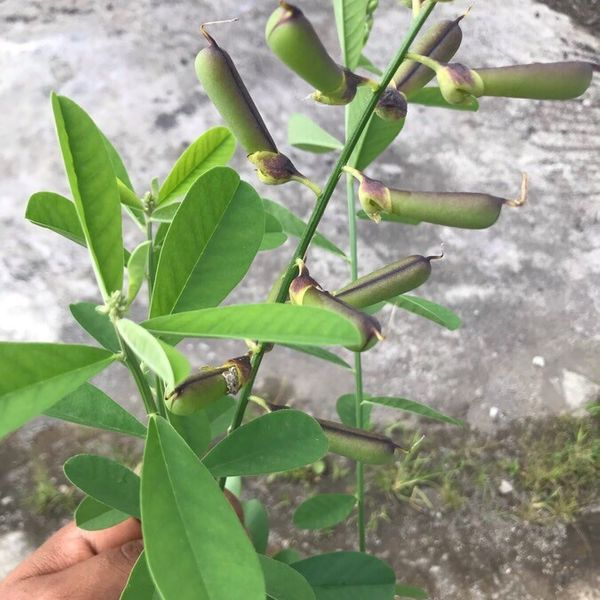obstacle: (27, 11, 429, 574)
